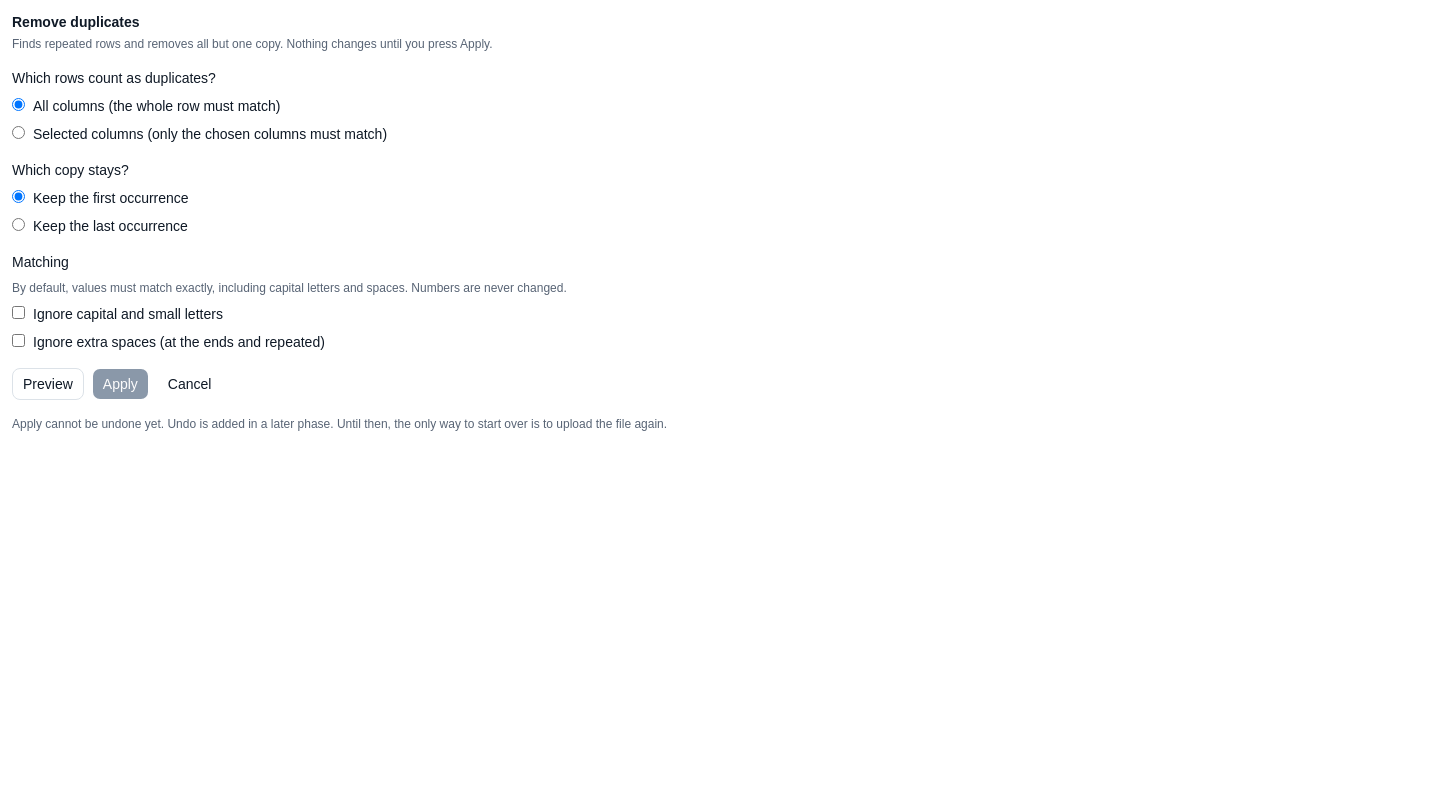
DuplicatesPanel: preview › discards the preview when a setting changes
The width and height of the screenshot is (1452, 810).
Click the button "Preview" at coordinates (48, 384), box [12,368,84,400]
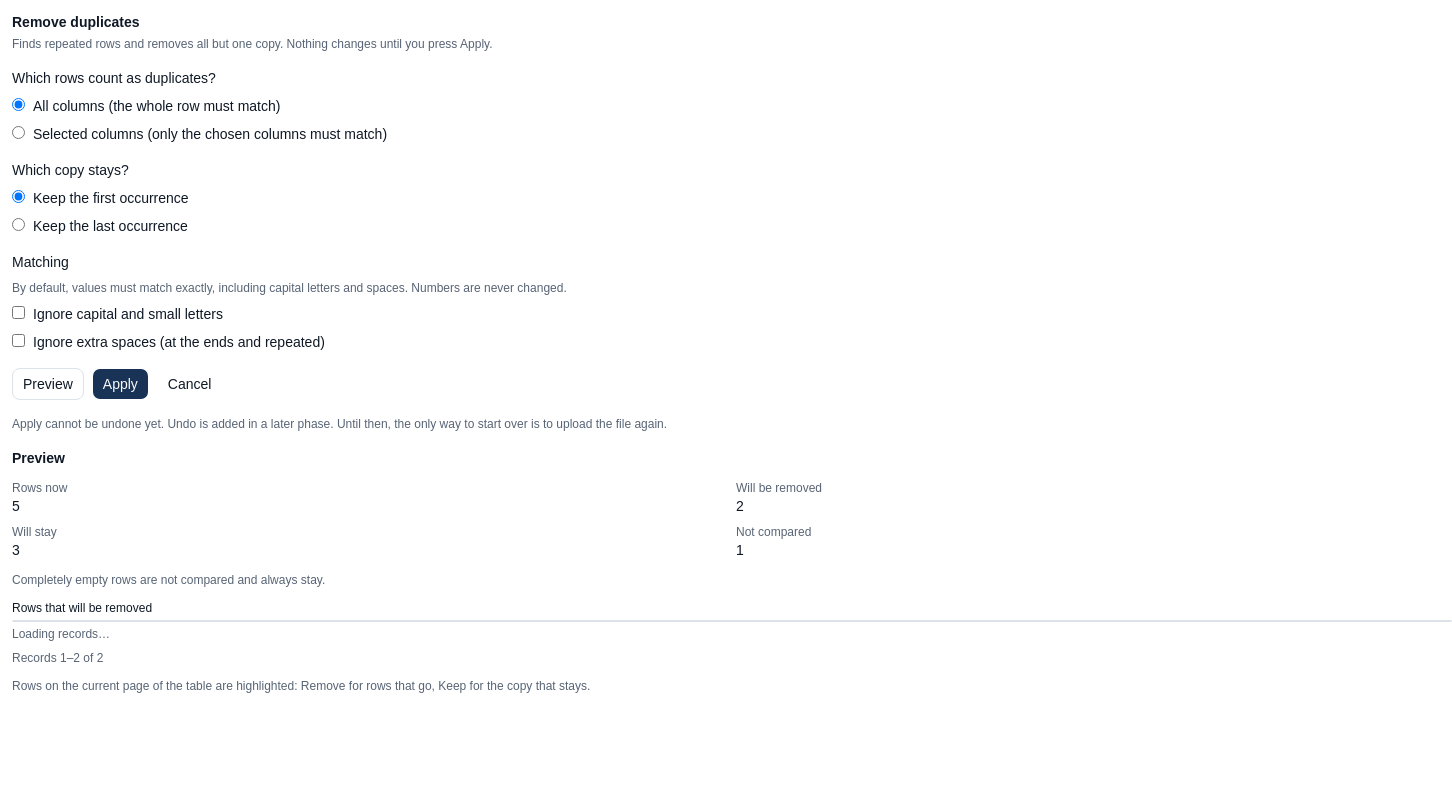
Result: the element "Preview" is shown at [12,448,1451,694]
Click the checkbox labelled "Ignore capital and small letters" at coordinates (18, 312), box [12,306,25,319]
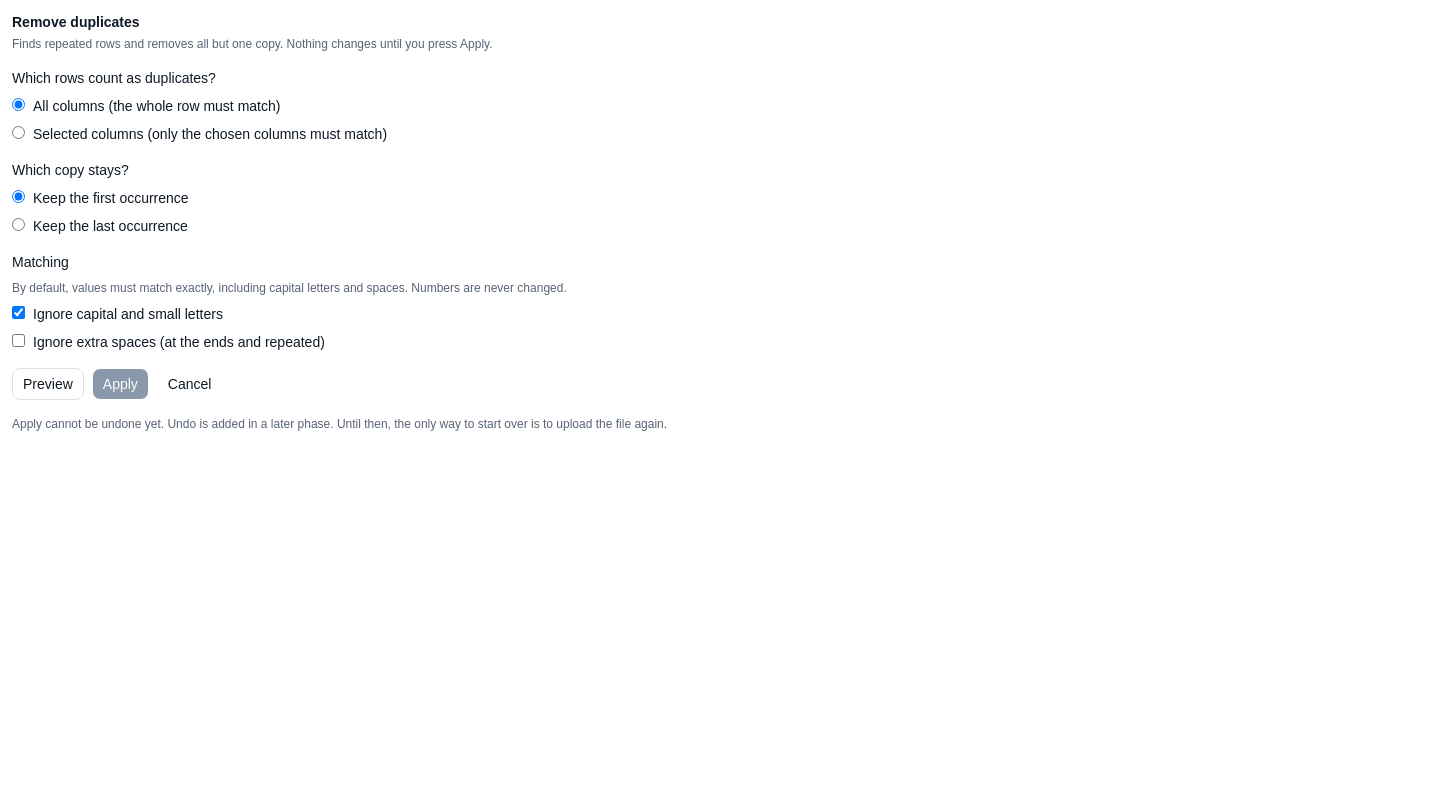
Result: the button "Apply" is disabled at [92,368,149,400]
